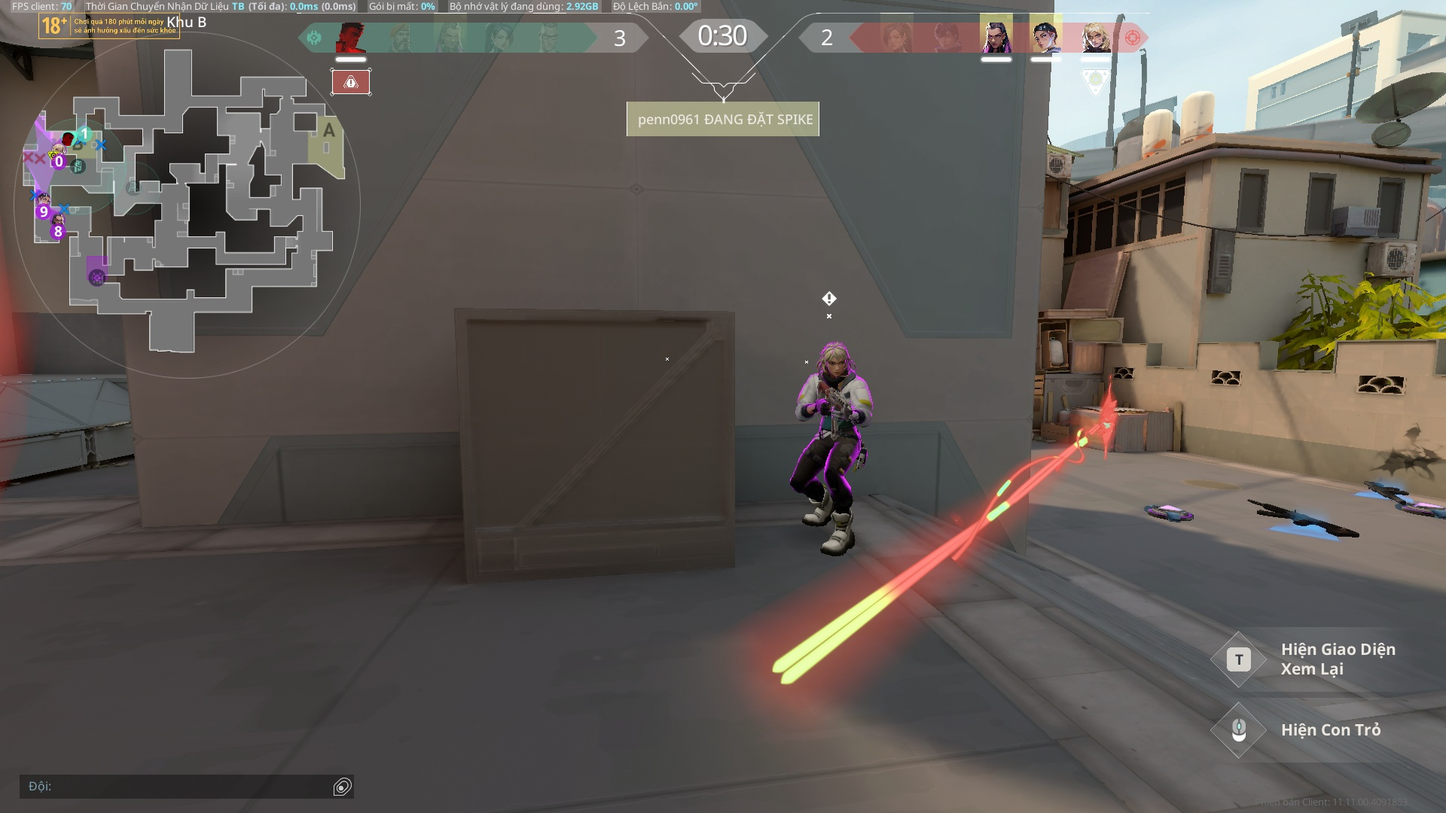body: (810, 370, 868, 440)
head: (819, 340, 850, 373)
